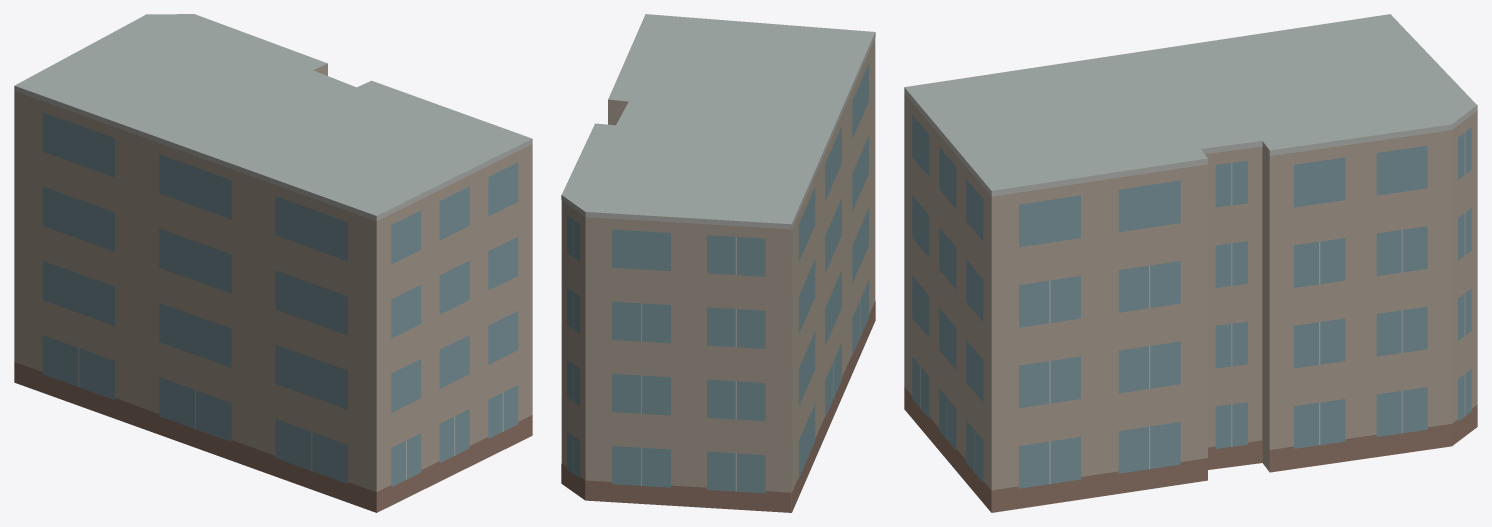
The model's file is survey-upis-32699632.glb.
The picture shows the model from 3 angles, left to right: view 1: azimuth 30°, elevation 25°; view 2: azimuth 150°, elevation 25°; view 3: azimuth 270°, elevation 25°; orthographic projection. The views are drawn at different scales.
Parts seen in each view (by area): view 1: survey-upis-32699632.tmp; view 2: survey-upis-32699632.tmp; view 3: survey-upis-32699632.tmp.
Boxes of the visible parts, x1=… form: survey-upis-32699632.tmp: x1=14, y1=14, x2=532, y2=512; survey-upis-32699632.tmp: x1=561, y1=14, x2=875, y2=512; survey-upis-32699632.tmp: x1=904, y1=14, x2=1477, y2=512.
Size of the model in its own units: 16.16 by 13.7 by 22.12.
